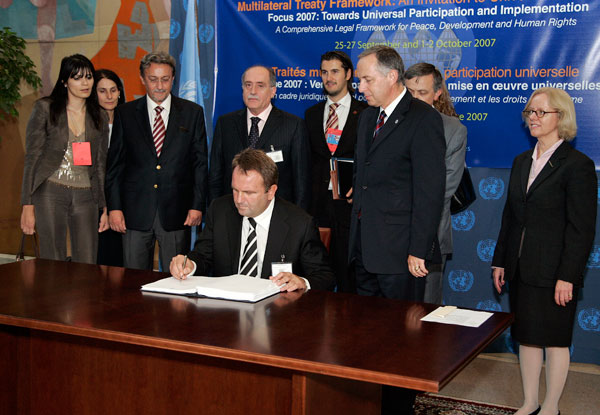person: (499, 86, 595, 414), (108, 51, 207, 272), (352, 51, 428, 301), (198, 147, 326, 288), (32, 52, 103, 264), (309, 45, 356, 291), (210, 64, 311, 149), (404, 57, 476, 125), (96, 70, 119, 114)
